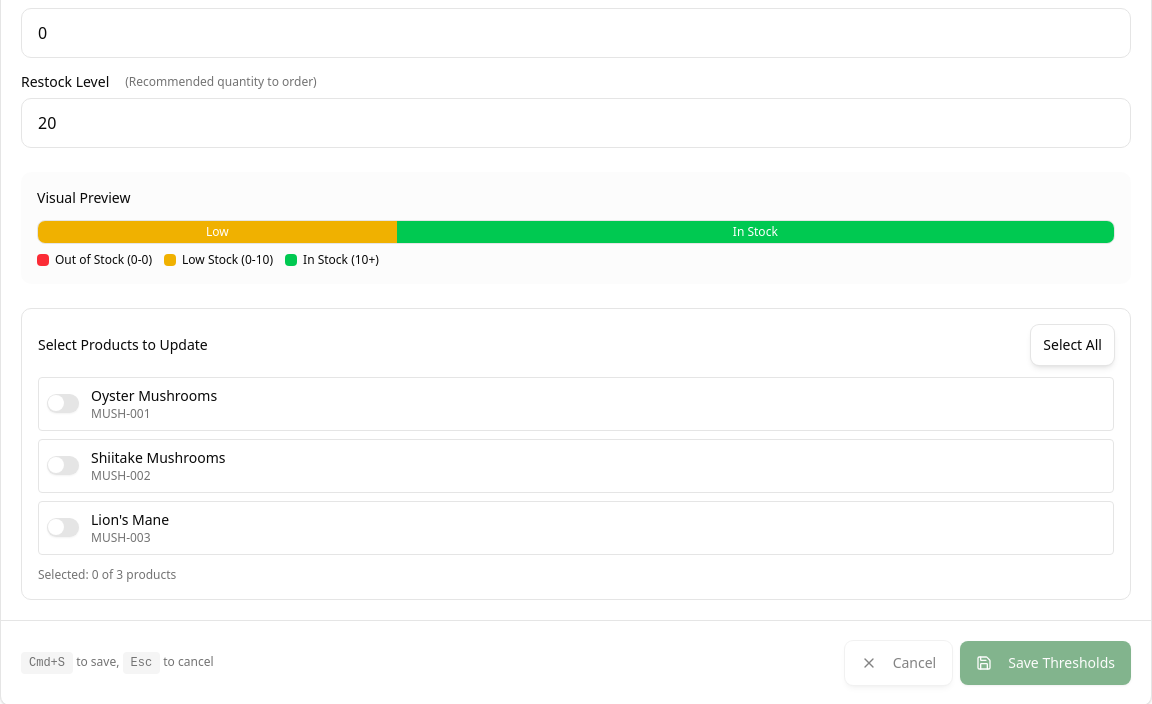
Scenario: ThresholdSettings Component › Bulk Mode › should deselect all products with Deselect All button
This screenshot has width=1152, height=704.
(page scrolled)
# Select all first
Step 1. Click the button "Select All" → (1073,344), box [1031,324,1114,364]
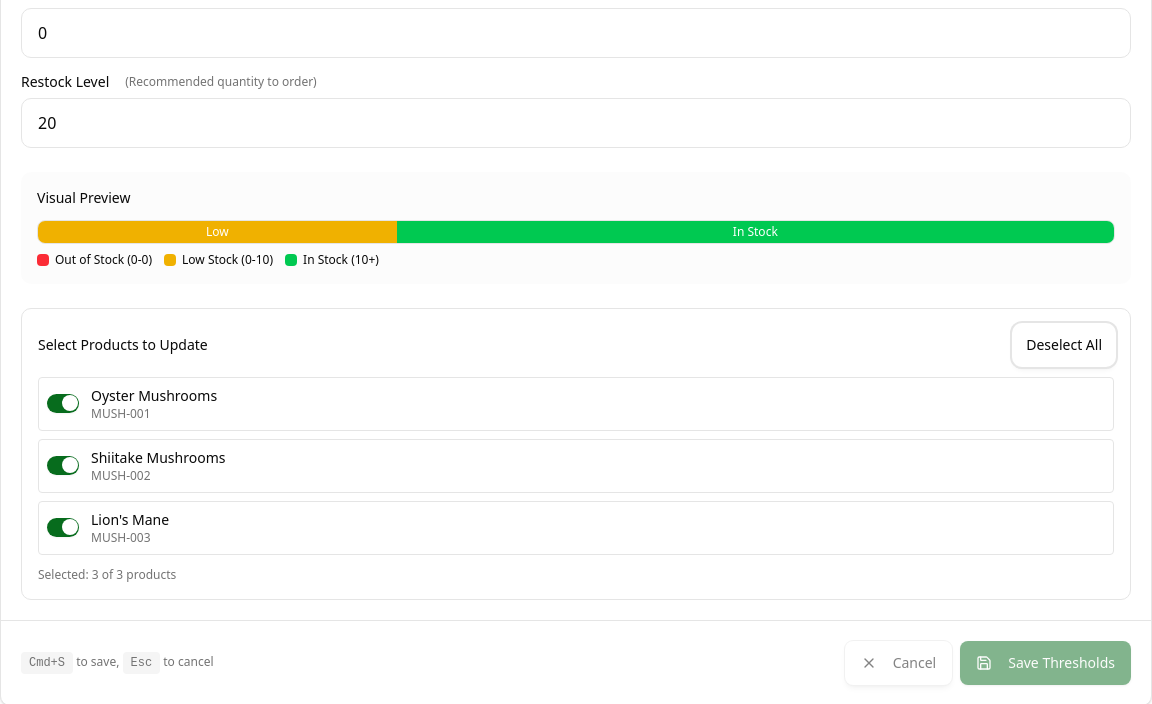
# Deselect all
Step 2. Click the button "Deselect All" → (1064,344), box [1014,324,1114,364]
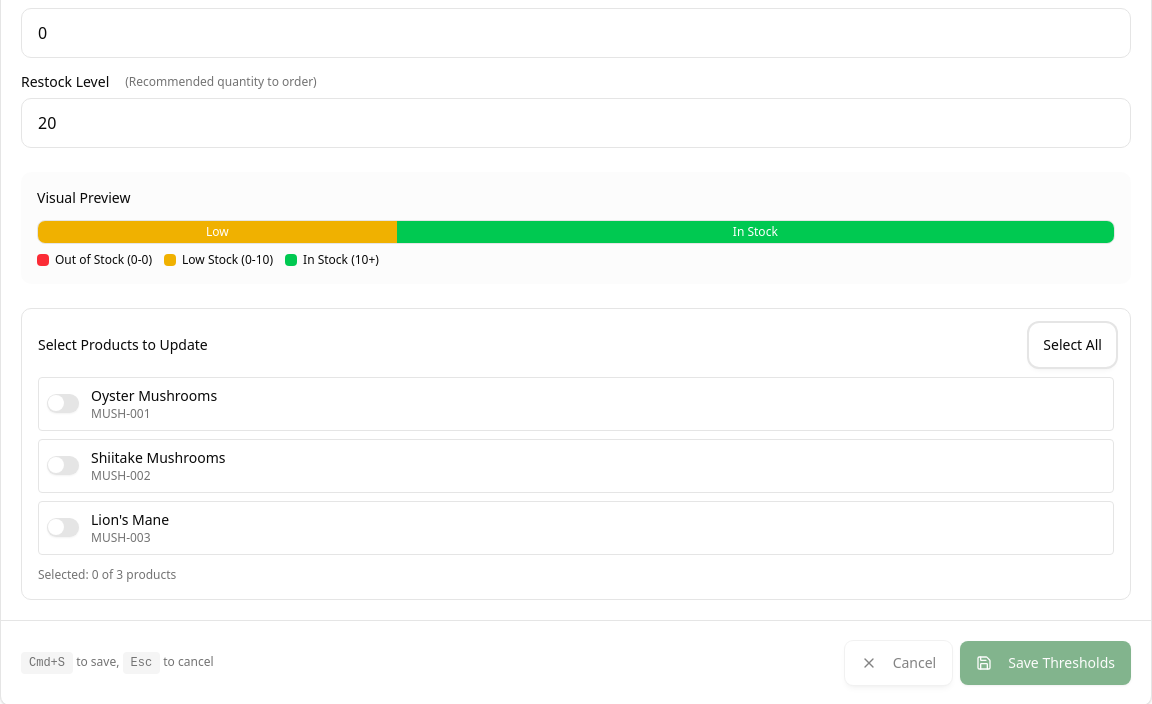
Expected: the text "Selected: 0 of 3 products" is shown, [38,566,176,582]
